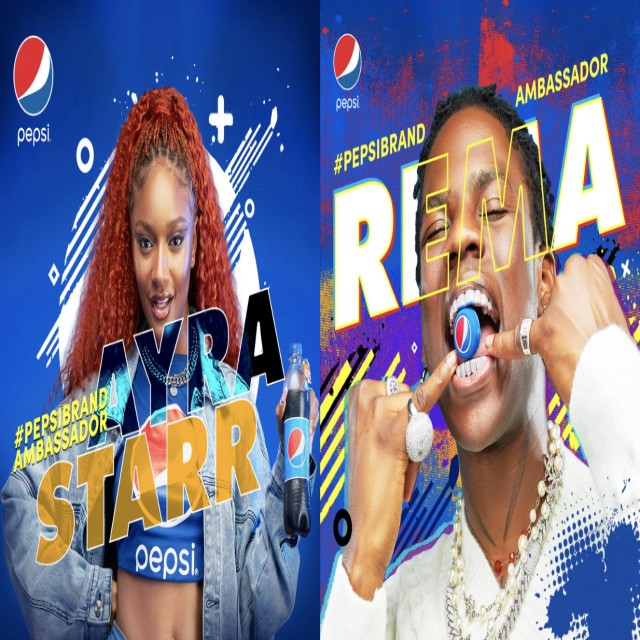pepsi: (11, 32, 59, 130), (332, 25, 366, 96), (289, 420, 307, 476), (452, 312, 474, 353)
